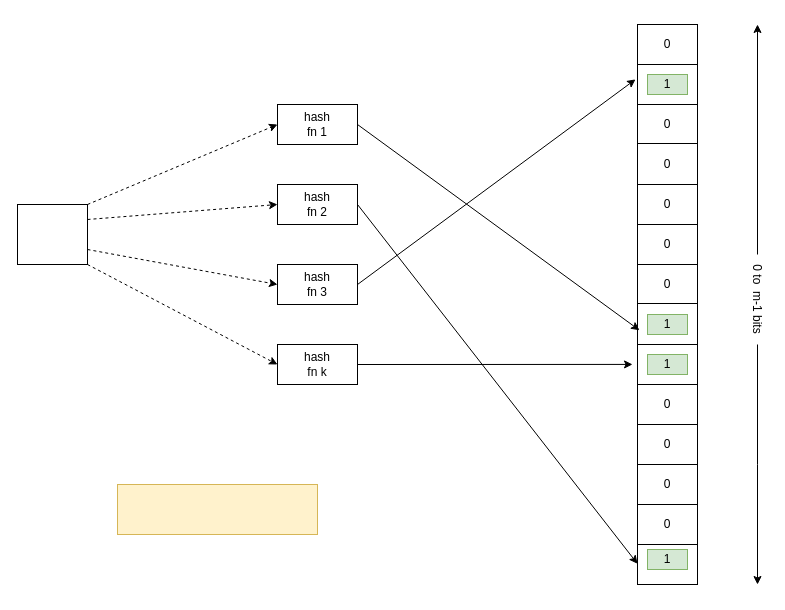
Image size: 785x610. Some labels were removed from this diagram. The shapes that lost their labels are listed below. From the top down, each one's box as (x1, y1, x2, y2) in pixels, then its label:
(16, 204, 88, 264): Key
(116, 484, 318, 534): BLOOM FILTER
